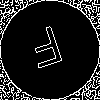F: (25, 25, 69, 78)
